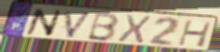2: (148, 16, 181, 47)
B: (85, 12, 121, 42)
H: (176, 19, 213, 48)
N: (24, 7, 64, 38)
V: (63, 10, 93, 39)
X: (116, 13, 153, 44)
